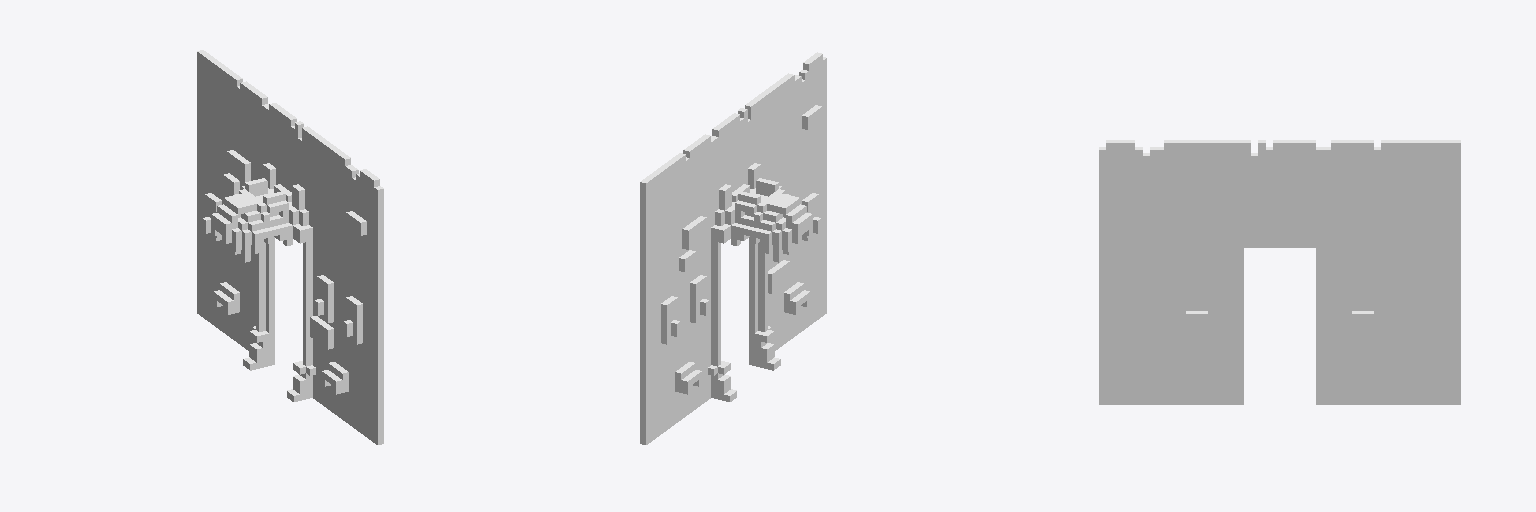
The model's file is vox-32-Wall_DragonDoor.obj.
3 views of the same model, side by side, from view 1: azimuth 30°, elevation 25°; view 2: azimuth 150°, elevation 25°; view 3: azimuth 270°, elevation 25° (orthographic).
Visible parts, largest first — view 1: Wall_DragonDoor; view 2: Wall_DragonDoor; view 3: Wall_DragonDoor.
Part boxes in pixels (x1,y1,x2,y2): Wall_DragonDoor: (197, 50, 383, 444); Wall_DragonDoor: (640, 52, 826, 444); Wall_DragonDoor: (1099, 140, 1460, 404).
Bounding box in the file's own units: 1.2 × 4 × 5.